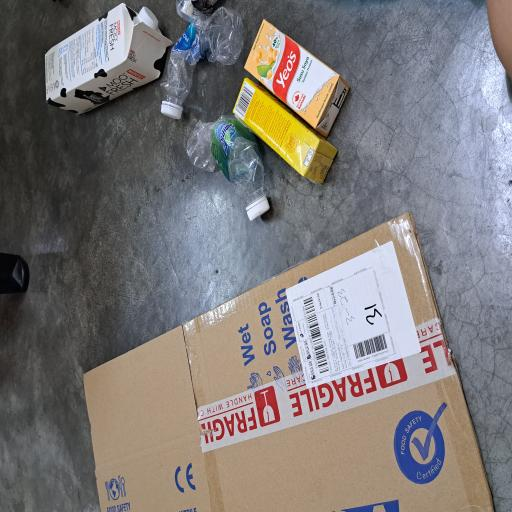cardboard: (0, 108, 226, 512)
drink carton: (298, 59, 382, 229), (282, 326, 370, 466), (246, 310, 325, 451)
plastic bottle: (296, 210, 384, 326), (216, 249, 298, 359), (294, 213, 310, 245)
plastic bottle cap: (218, 328, 238, 362), (362, 183, 378, 212)
